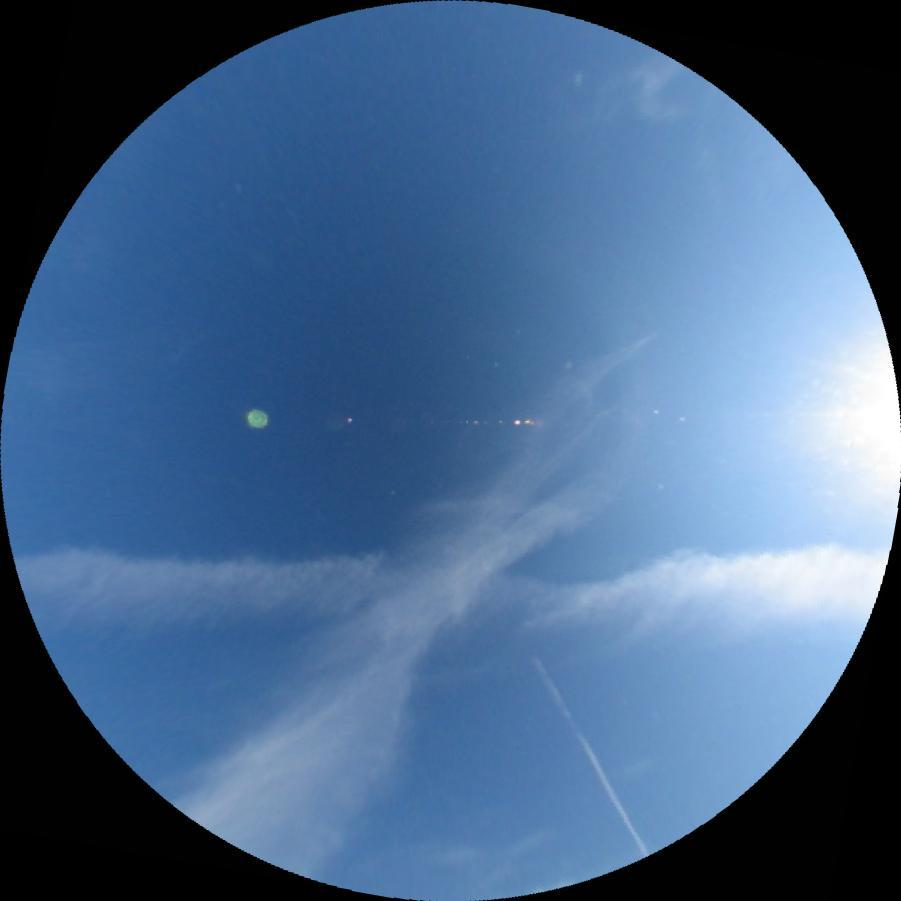contrail old: (529, 654, 651, 857)
contrail veryold: (17, 544, 889, 636)
